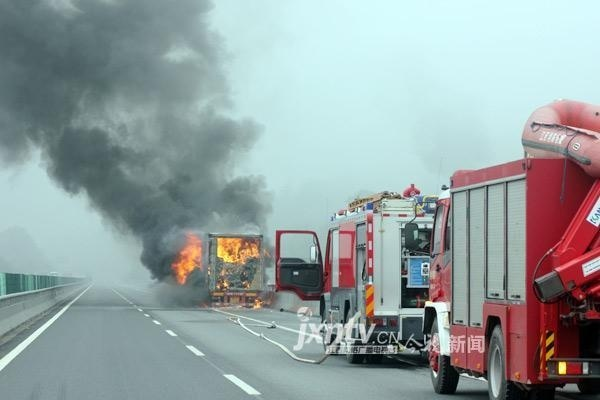fire: (173, 233, 267, 305), (173, 235, 201, 280)
